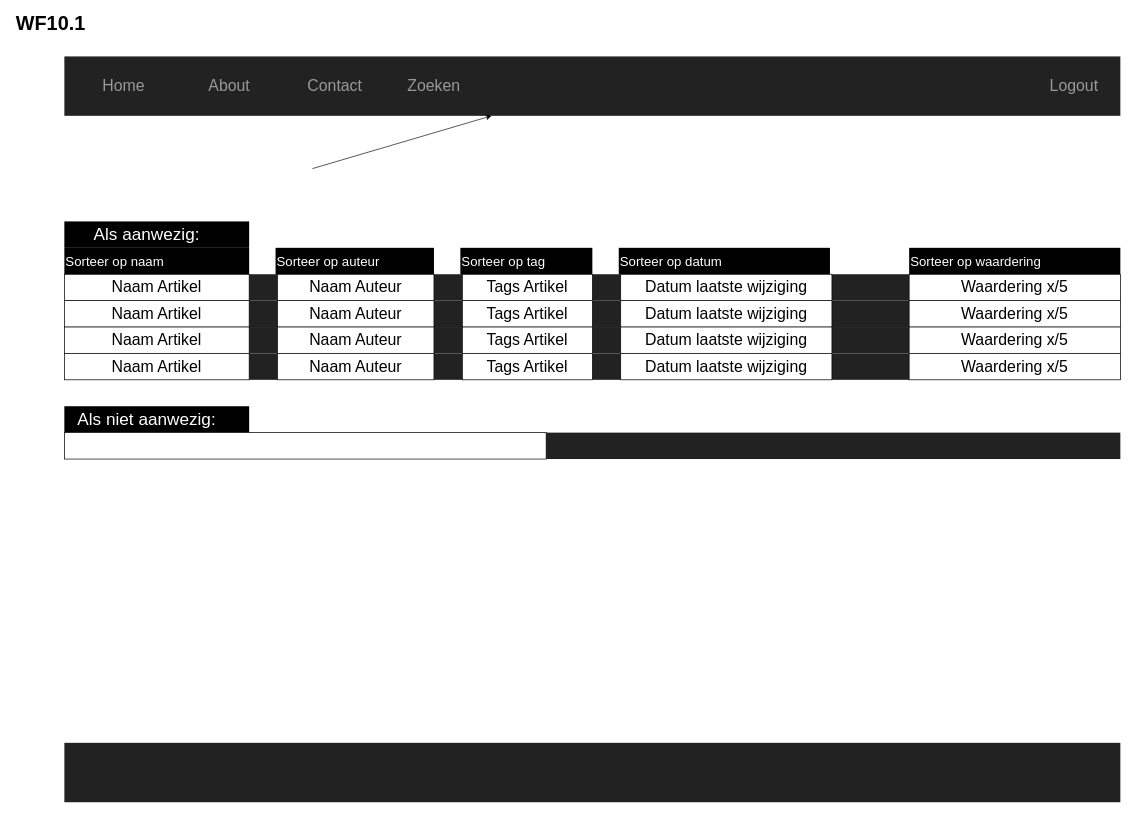
Image size: 1132x813. Some labels were removed from this diagram. Here are the shapes that lost their labels. From the top down, the centre of each, then its label:
At [305,445]: "Deze zoekopdracht op ... heeft geen resultaten".
At [592,772]: "Footer tekst".
